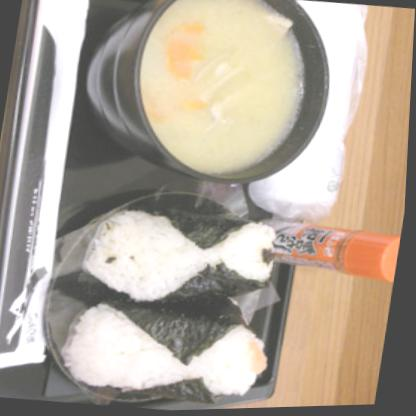rice roll: (67, 293, 274, 407), (77, 201, 284, 307)
